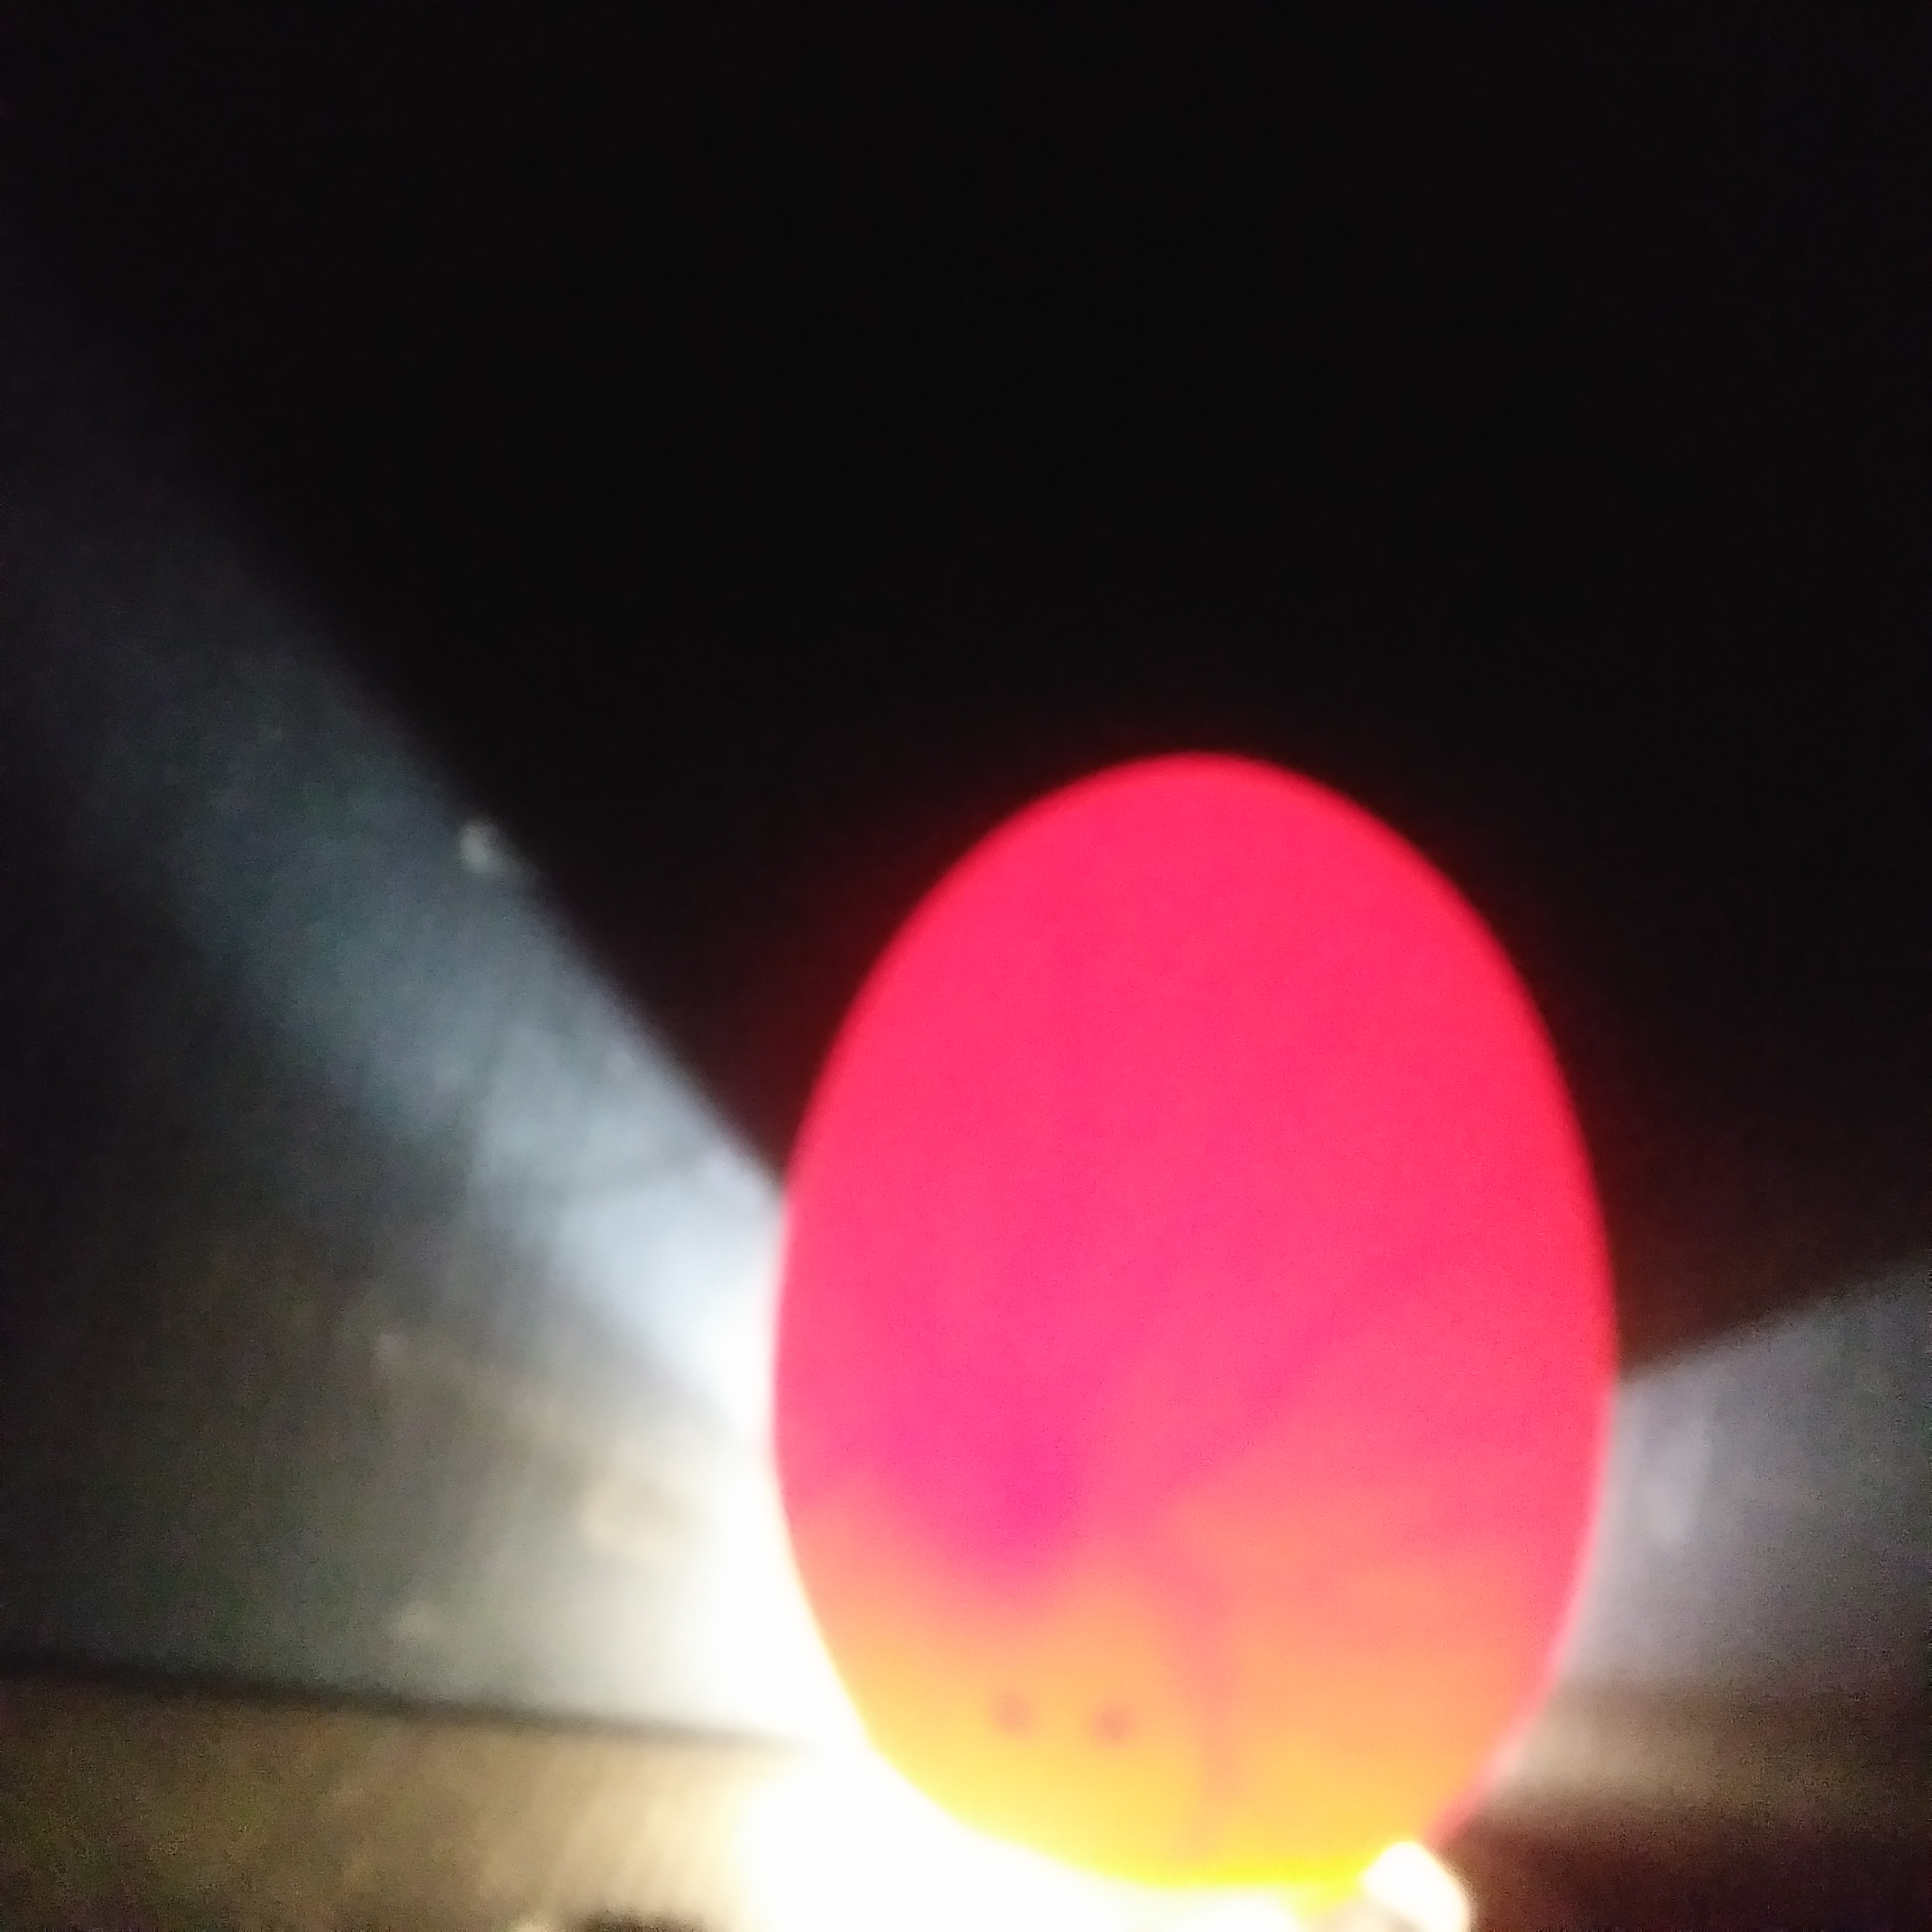bloodcell: (1145, 1177, 1537, 1787)
embryo: (929, 1334, 1113, 1642)
